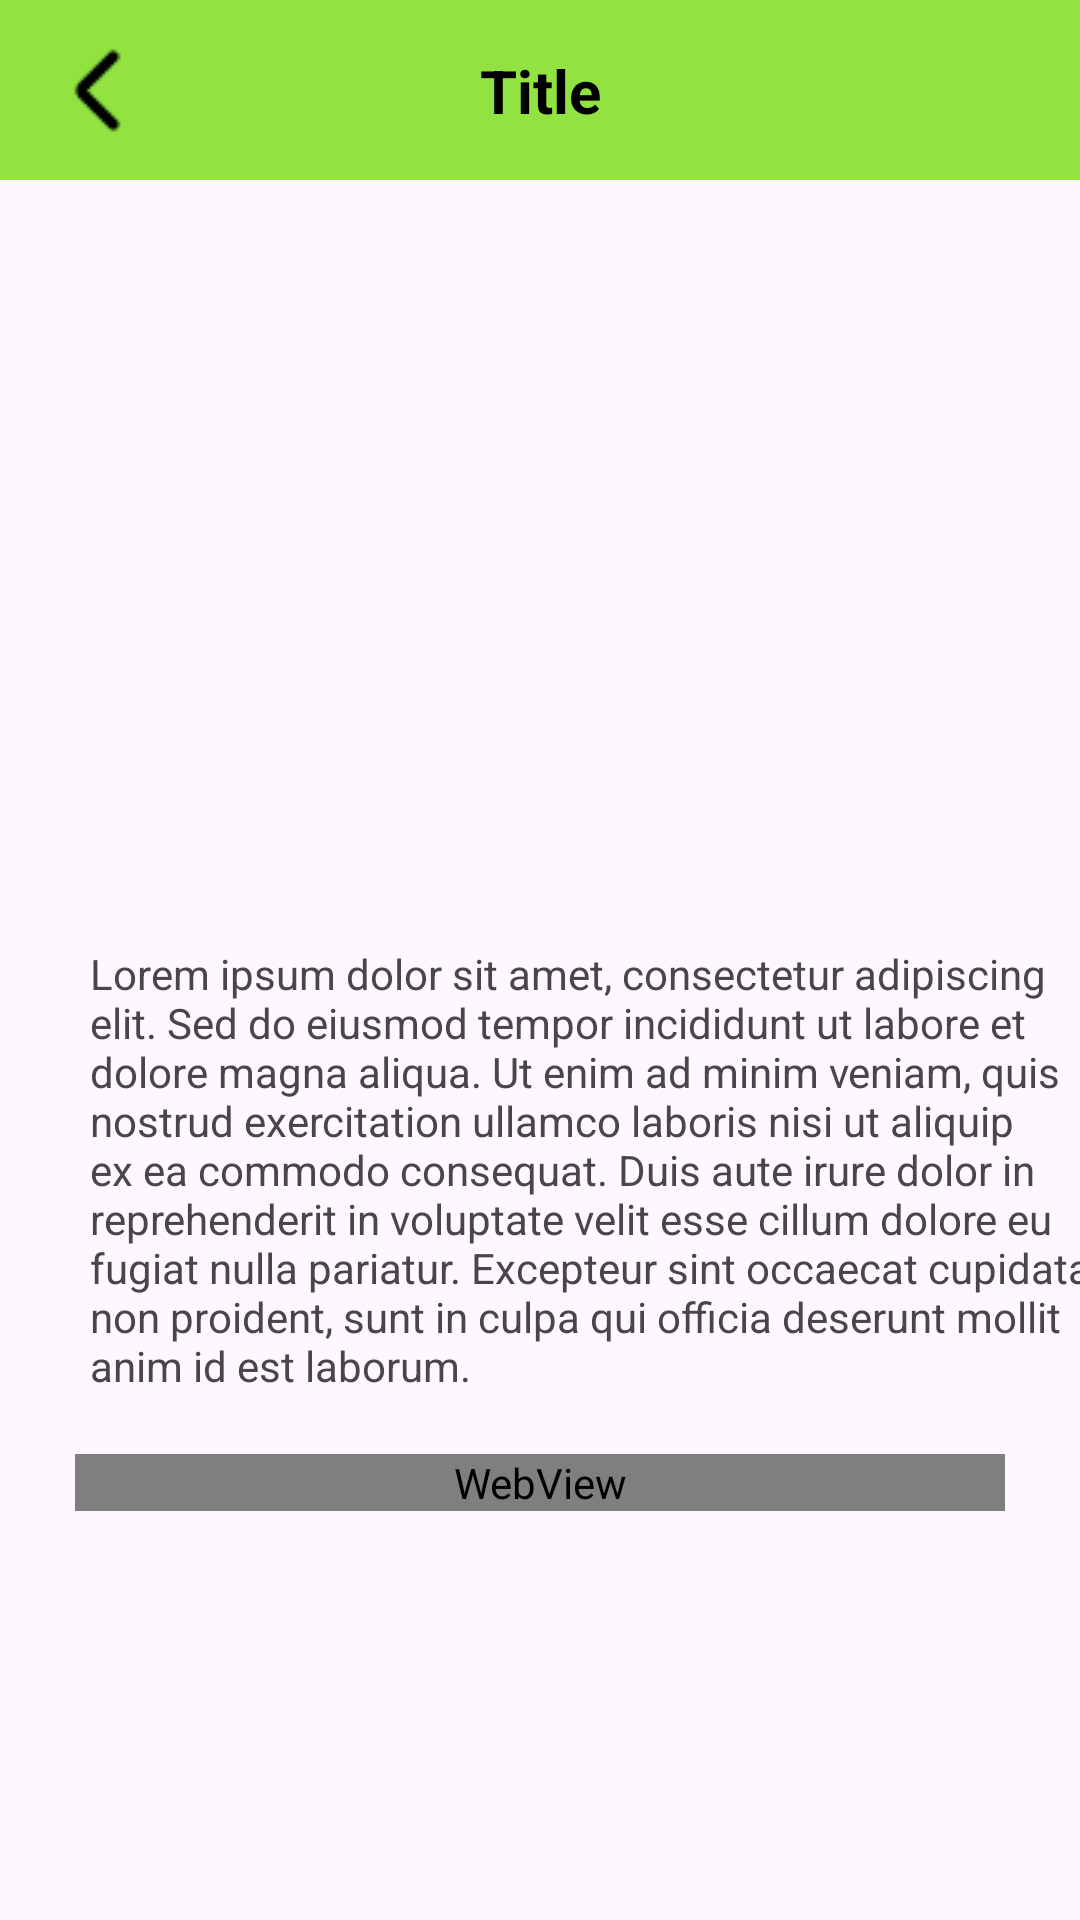

Locate icon controls on the screen. Image size 1080px×1920px, boxes as (x1, y1, x2, y2).
back arrow: (74, 49, 121, 132)
